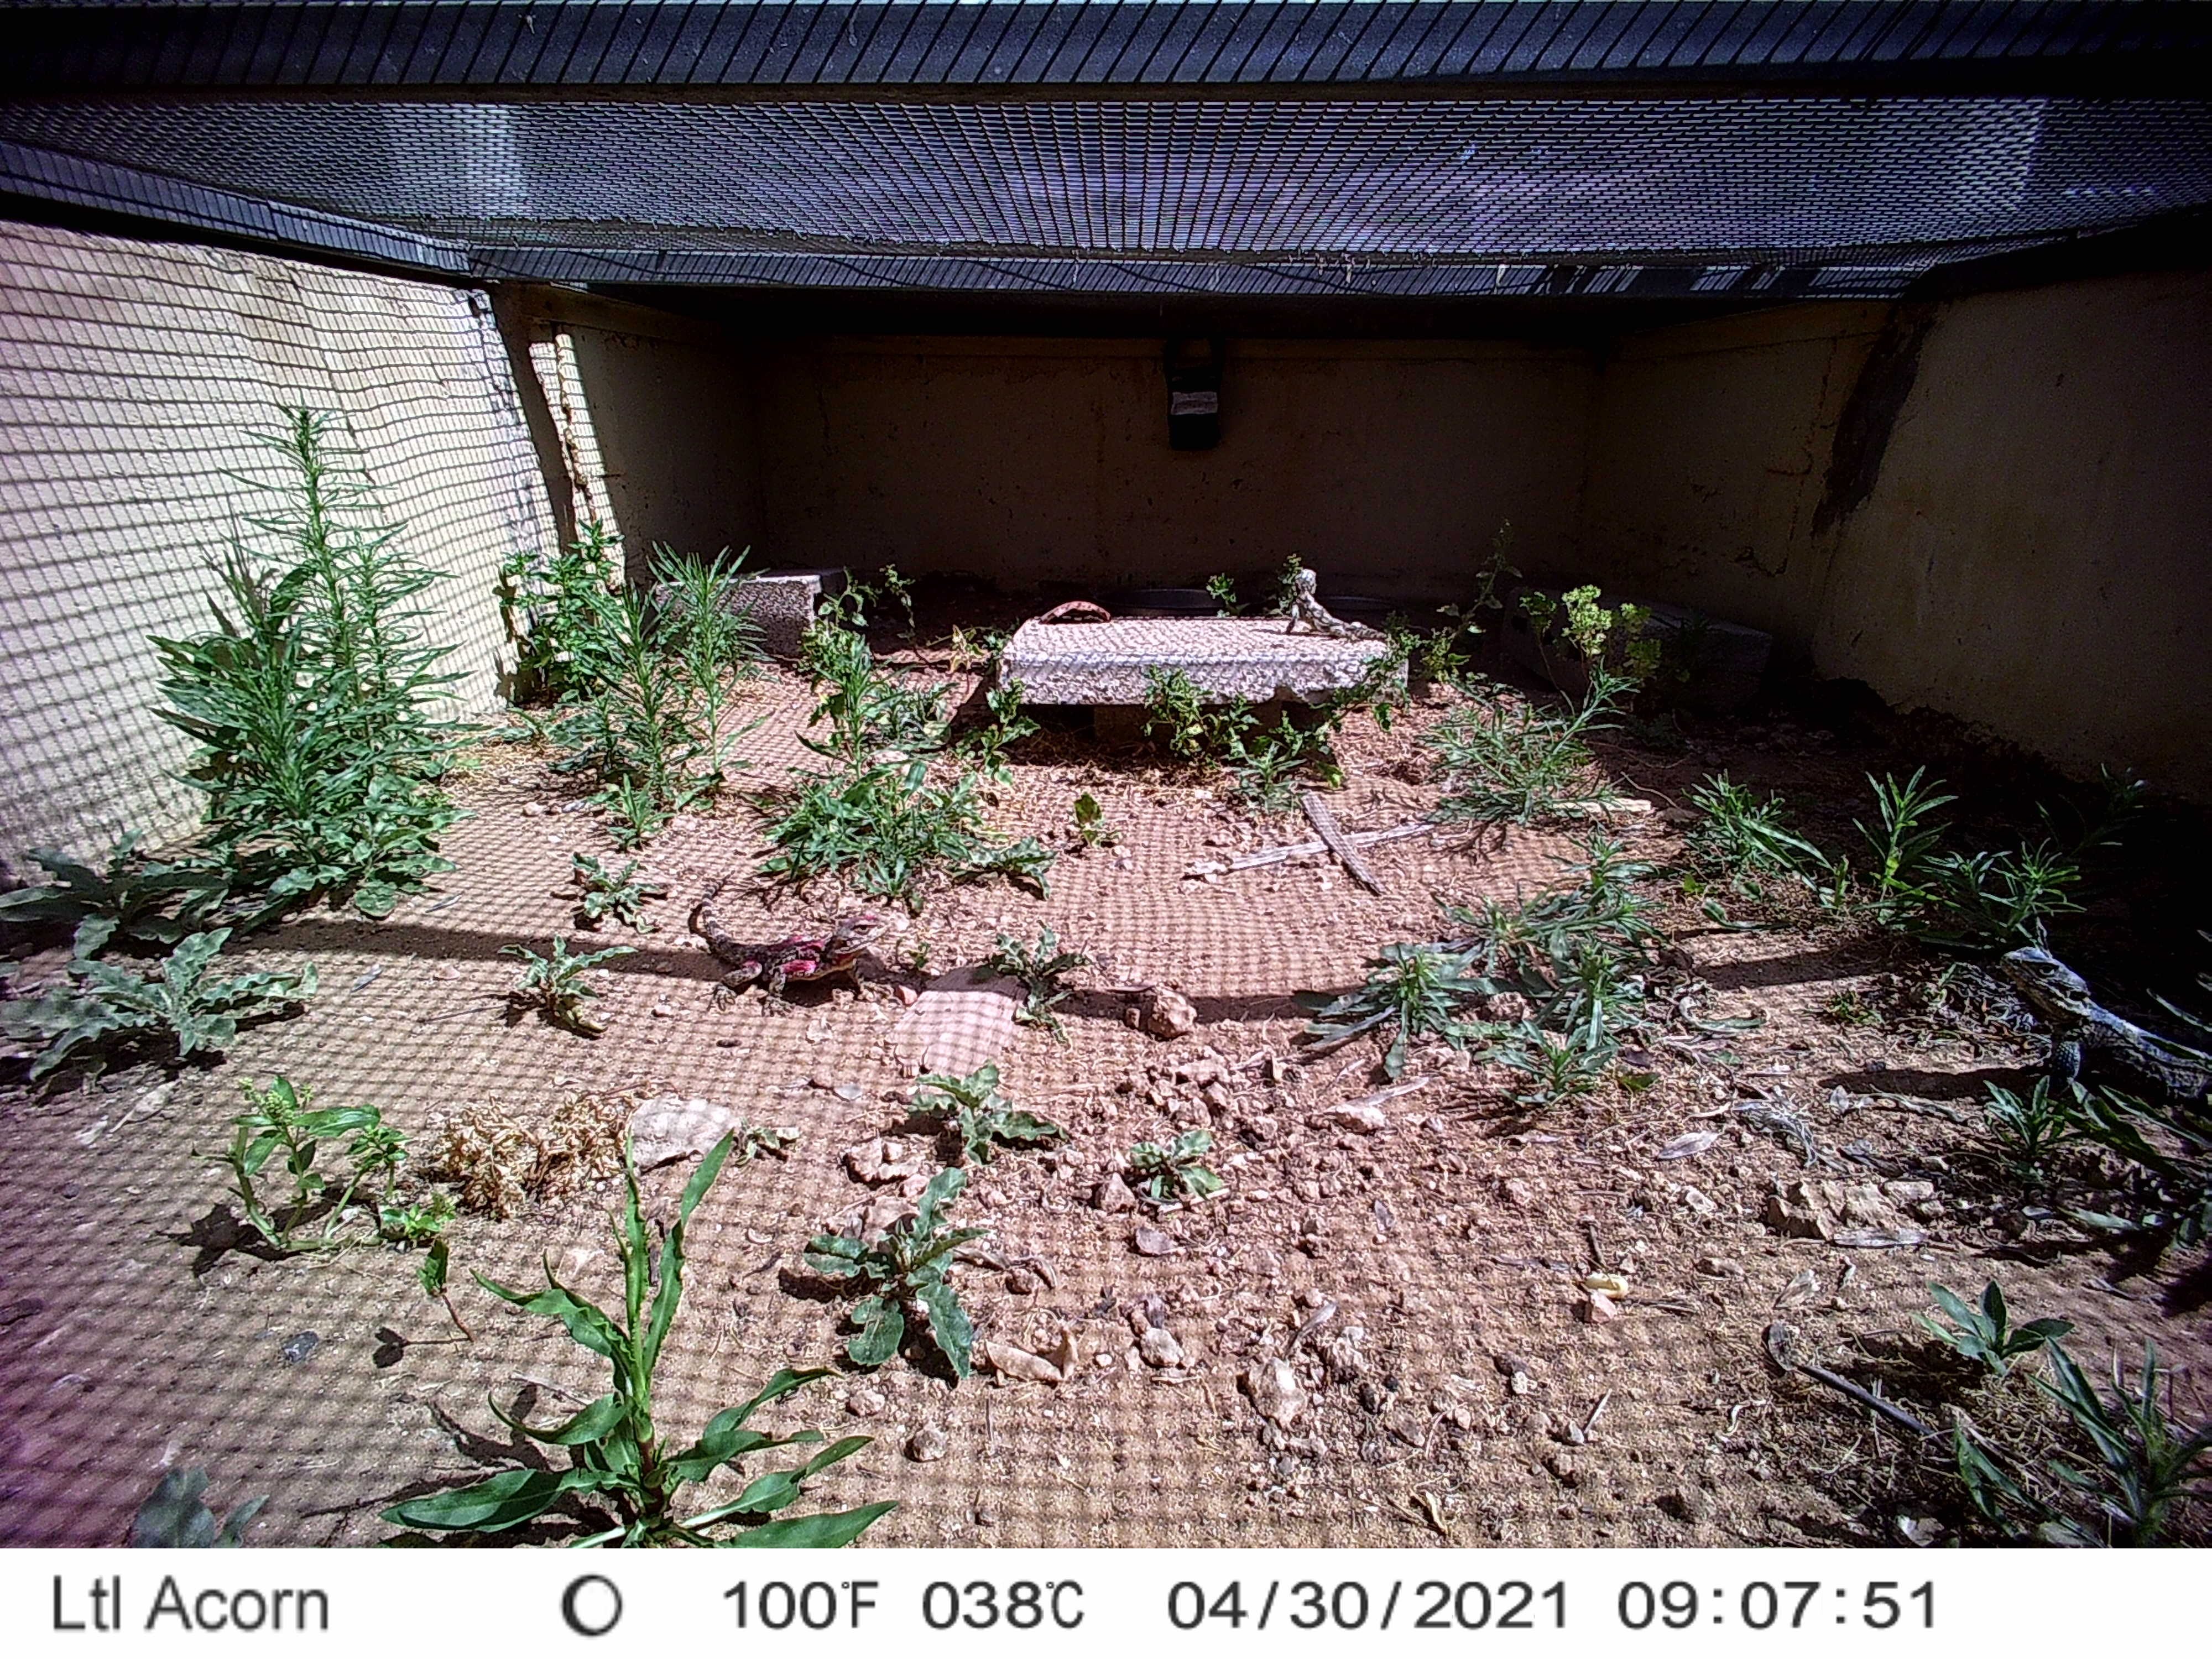lizard: (1996, 938, 2209, 1119), (688, 877, 887, 1025), (1275, 563, 1406, 652)
